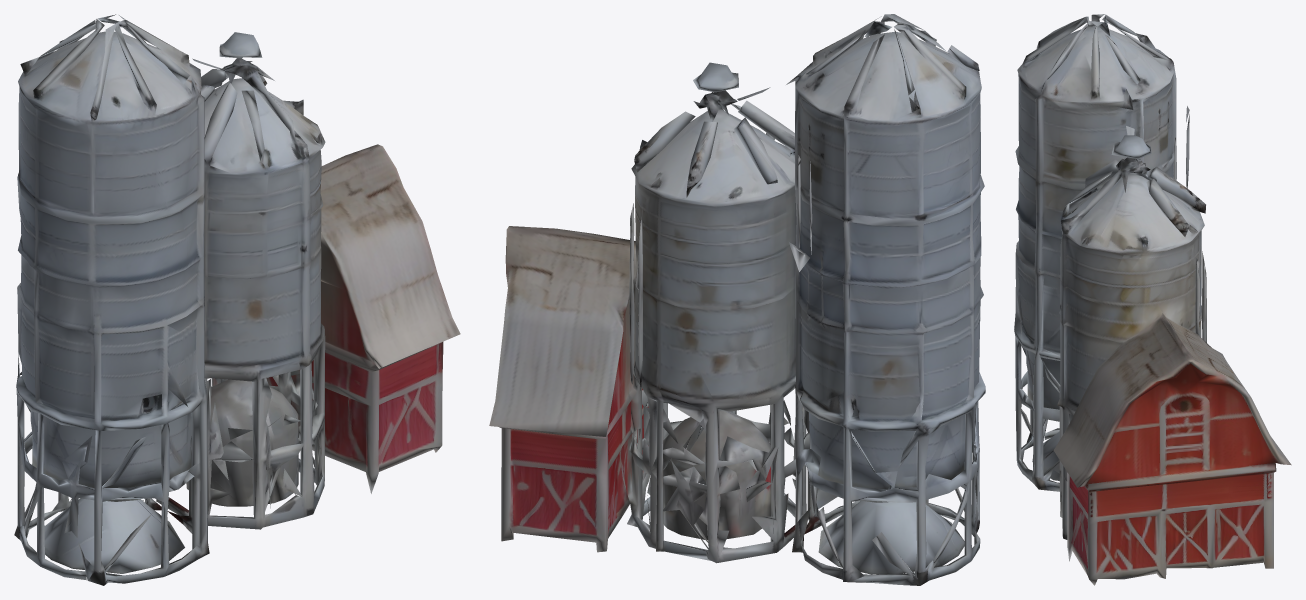
The model's file is granary.glb.
3 views of the same model, side by side, from view 1: azimuth 30°, elevation 25°; view 2: azimuth 150°, elevation 25°; view 3: azimuth 270°, elevation 25° (orthographic). The views are drawn at different scales.
Parts seen in each view (by area): view 1: body; view 2: body; view 3: body.
Boxes of the visible parts, bbox=[...] form: body: bbox=[14, 14, 460, 585]; body: bbox=[489, 14, 985, 585]; body: bbox=[1014, 14, 1291, 585].
Size of the model in its own units: 11.6 by 13.93 by 7.83.
1 material, 1 textured.
